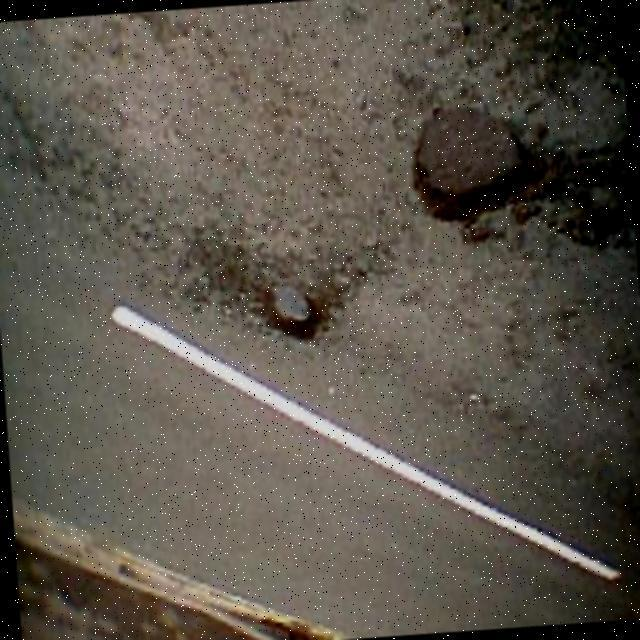Pothole: (410, 104, 546, 221), (259, 283, 329, 340)
